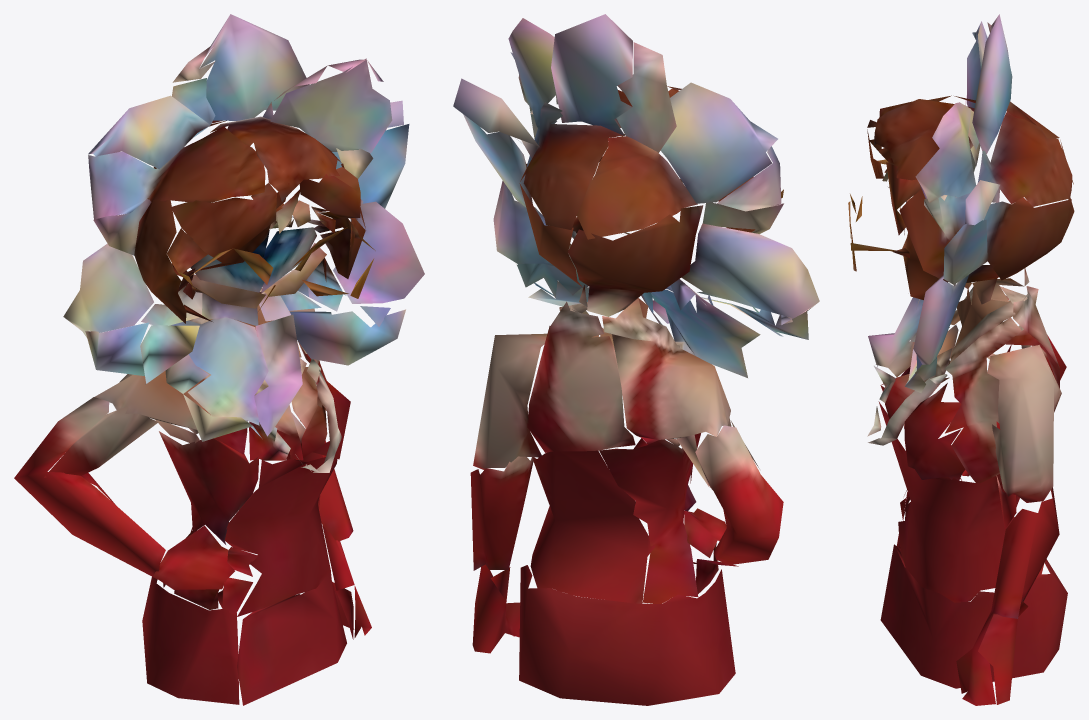
Rendered from crowd_actress_upper.glb.
3 renders of one model, left to right at view 1: azimuth 30°, elevation 25°; view 2: azimuth 150°, elevation 25°; view 3: azimuth 270°, elevation 25°, orthographic. The views are drawn at different scales.
Visible parts, largest first — view 1: tripo_node_058a3aab-caec-415b-b0f7-e44096bb8c06; view 2: tripo_node_058a3aab-caec-415b-b0f7-e44096bb8c06; view 3: tripo_node_058a3aab-caec-415b-b0f7-e44096bb8c06.
Boxes of the visible parts, bbox=[...] form: tripo_node_058a3aab-caec-415b-b0f7-e44096bb8c06: bbox=[14, 14, 424, 705]; tripo_node_058a3aab-caec-415b-b0f7-e44096bb8c06: bbox=[453, 14, 819, 705]; tripo_node_058a3aab-caec-415b-b0f7-e44096bb8c06: bbox=[848, 14, 1074, 705].
Size of the model in its own units: 0.3472 by 0.6005 by 0.1956.
1 material, 1 textured.
